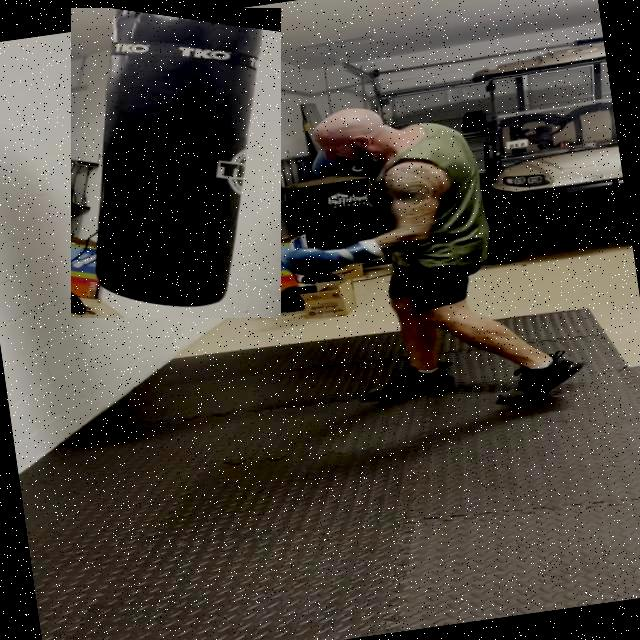punch: (227, 84, 497, 296)
